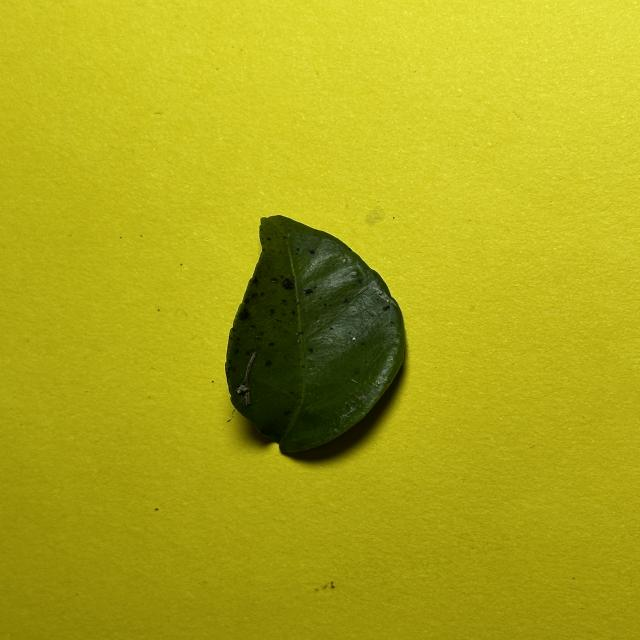sooty_mold: (225, 216, 405, 452)
